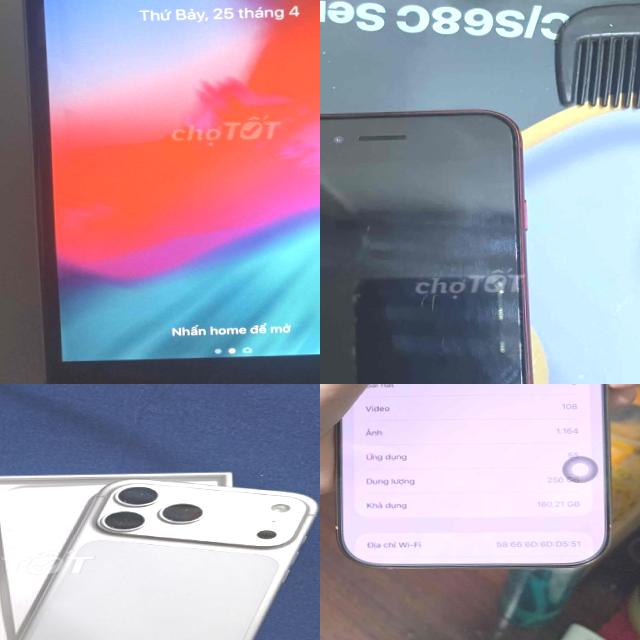gen_16: (337, 384, 608, 570)
gen_17: (0, 469, 320, 640)
gen_6: (0, 0, 320, 384)
gen_7_8: (320, 102, 552, 384)
